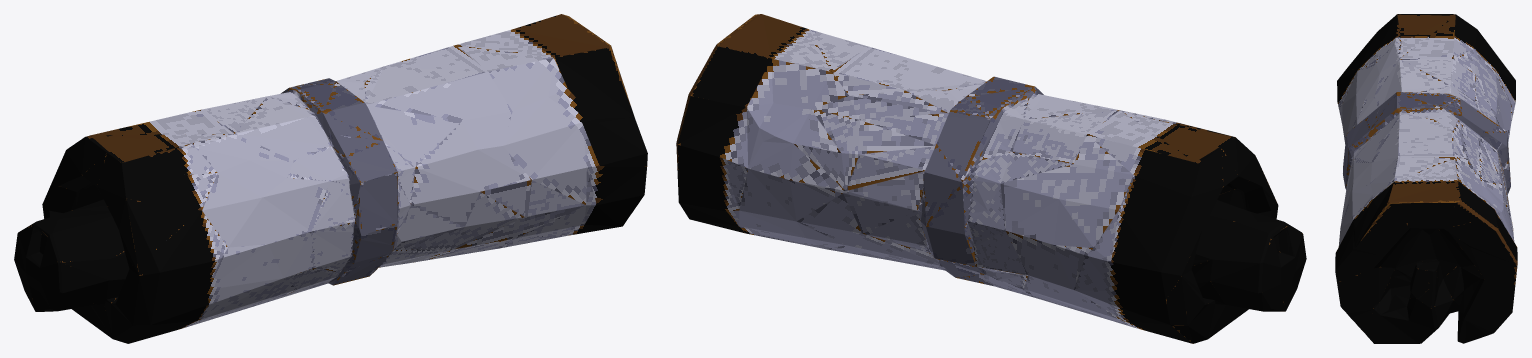
3 renders of one model, left to right at view 1: azimuth 30°, elevation 25°; view 2: azimuth 150°, elevation 25°; view 3: azimuth 270°, elevation 25°, orthographic. The views are drawn at different scales.
Parts seen in each view (by area): view 1: OBJ13f; view 2: OBJ13f; view 3: OBJ13f.
Boxes of the visible parts, left/top/right/bottom form: OBJ13f: left=14, top=14, right=647, bottom=343; OBJ13f: left=676, top=14, right=1306, bottom=343; OBJ13f: left=1335, top=14, right=1517, bottom=343.
Bounding box in the file's own units: 0.3312 × 0.0986 × 0.1141.
1 material, 1 textured.
